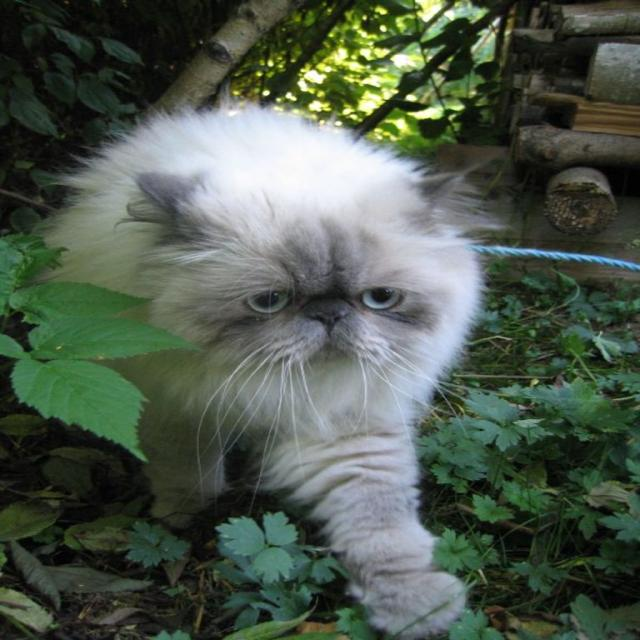Cat: (19, 89, 518, 639)
